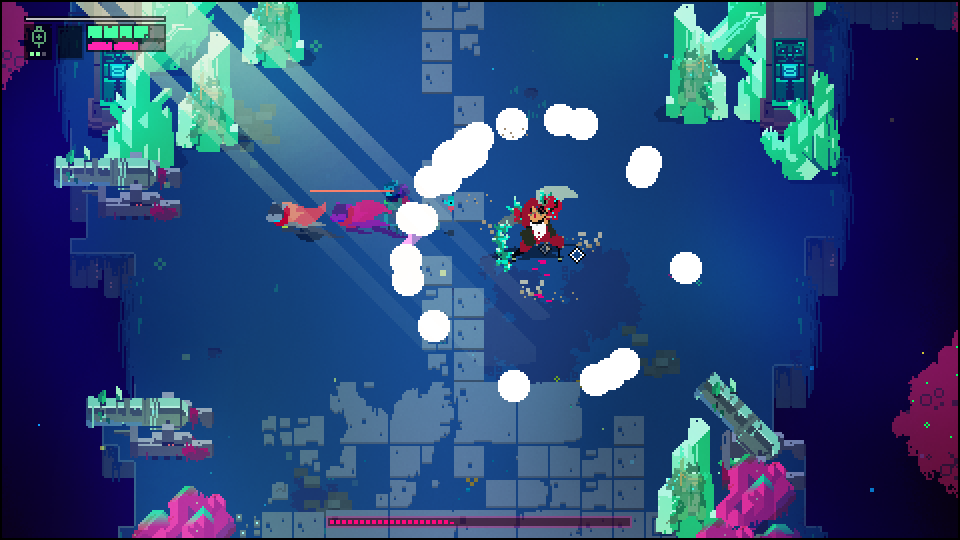hanged_man: (488, 181, 579, 272)
player: (263, 199, 334, 231)
